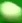white: (0, 0, 22, 23)
